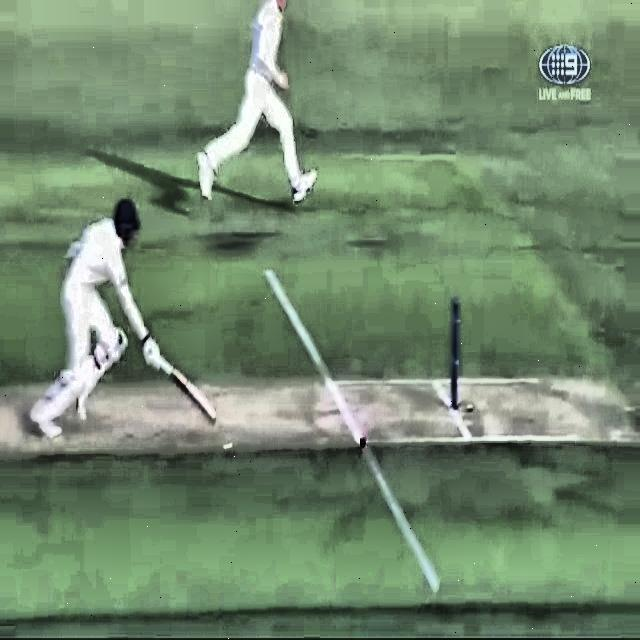Ball: (355, 430, 370, 452)
Bat: (145, 352, 223, 423)
Pitch_Line: (262, 265, 442, 593)
Undis_Wicket: (444, 299, 471, 419)
